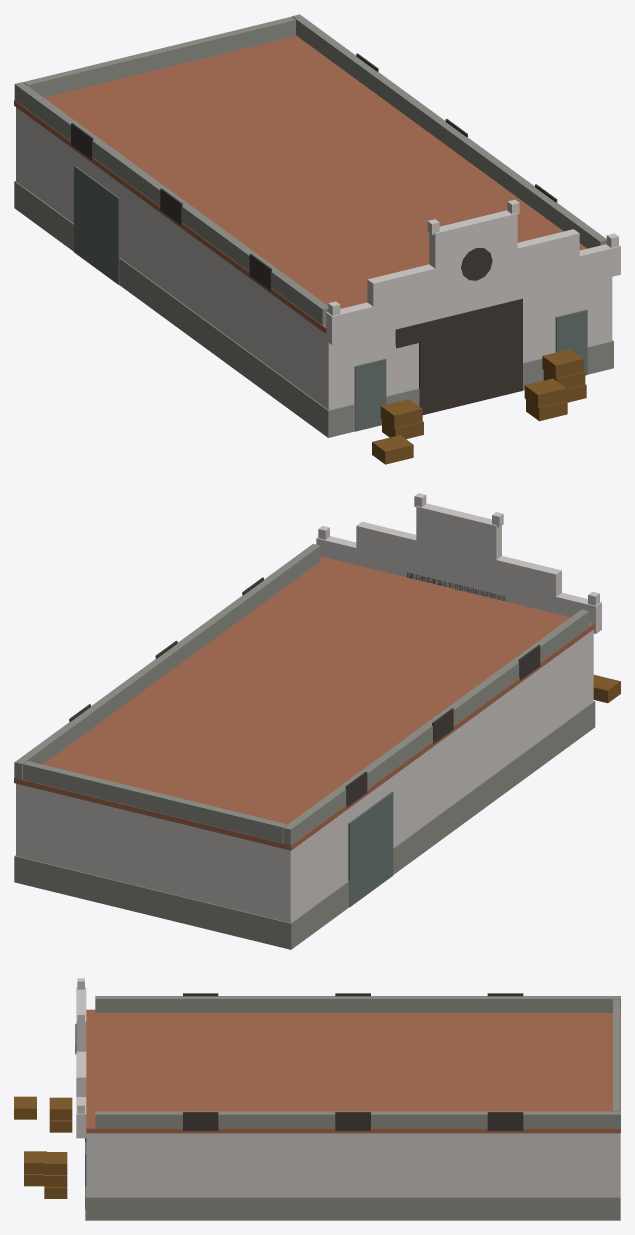
File: SM_Cooperativa_v2_AlmacenAbierto_LOD0.fbx
3 renders of one model, top to bottom at view 1: azimuth 30°, elevation 25°; view 2: azimuth 150°, elevation 25°; view 3: azimuth 270°, elevation 25°, orthographic. The views are drawn at different scales.
Visible parts, largest first — view 1: SM_bloques.cooperativa_v2_LOD0; view 2: SM_bloques.cooperativa_v2_LOD0; view 3: SM_bloques.cooperativa_v2_LOD0.
Part boxes in pixels (bbox=[...]): SM_bloques.cooperativa_v2_LOD0: bbox=[14, 14, 620, 464]; SM_bloques.cooperativa_v2_LOD0: bbox=[14, 493, 620, 949]; SM_bloques.cooperativa_v2_LOD0: bbox=[14, 978, 620, 1220].
Size of the model in its own units: 11.2 by 7.15 by 23.9.
